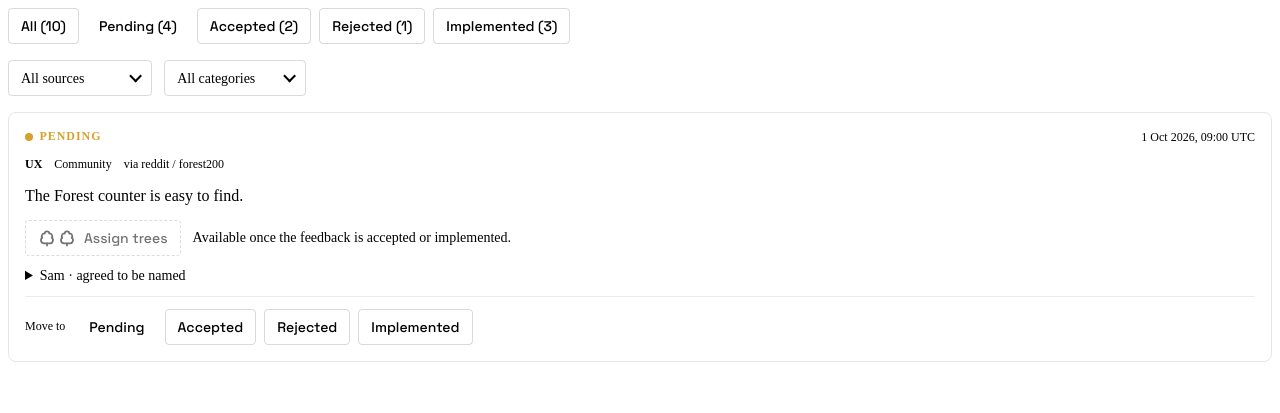
Scenario: AdminFeedbackBoard › shows an error, not a silent success, when a change is not saved
Expected: the text "The Forest counter is easy to find." is shown, [25,186,243,204]
Click the button "Rejected" at (307, 326), box [264,308,350,344]
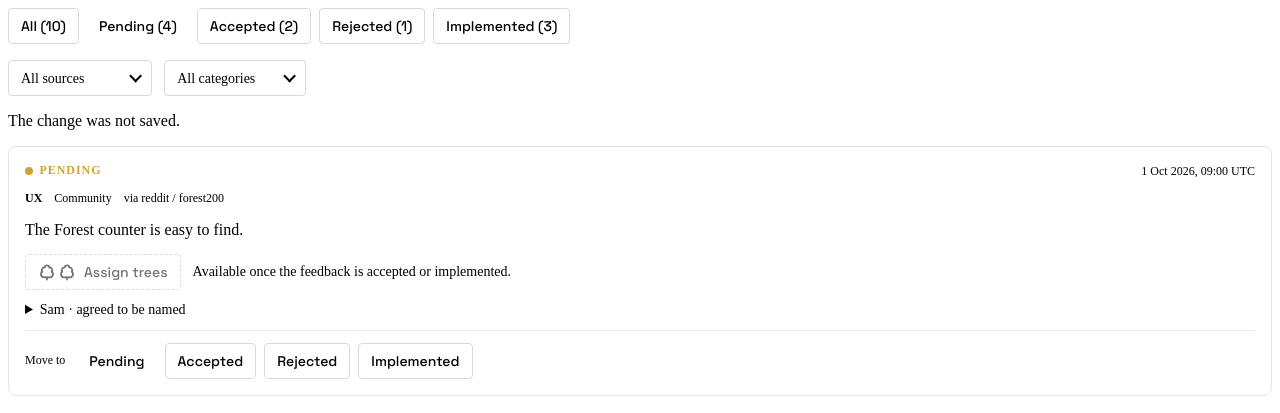
Now the message reads "The change was not saved.", box [8,112,180,129]
